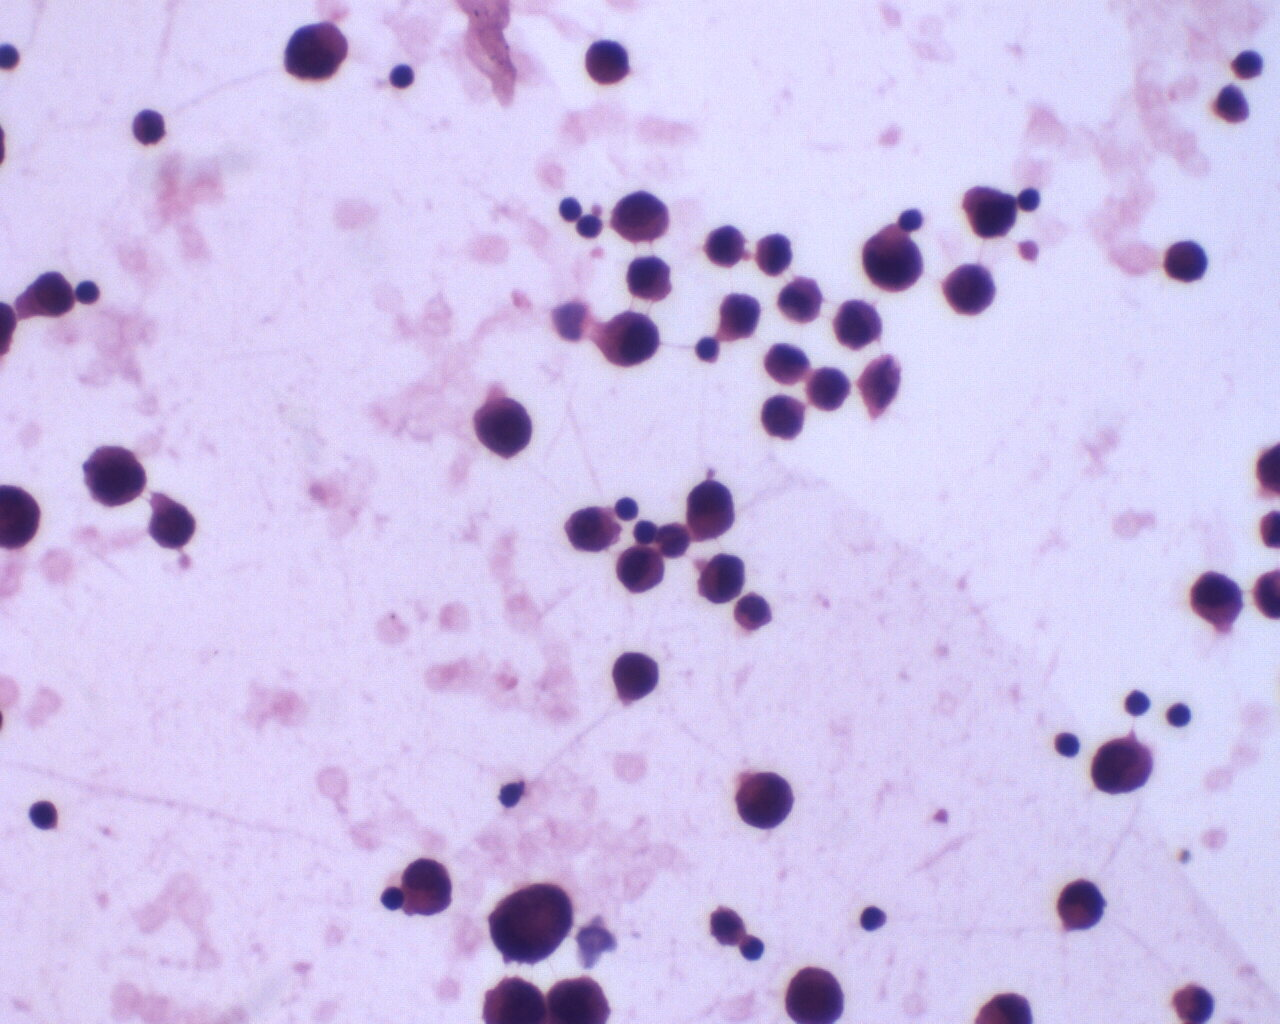ab: (280, 17, 347, 86), (80, 443, 148, 510), (734, 770, 801, 835), (862, 224, 924, 295), (470, 395, 534, 460), (1091, 734, 1156, 796), (781, 962, 845, 1024), (960, 178, 1020, 245), (602, 309, 660, 370), (940, 260, 999, 320), (611, 190, 673, 247), (1188, 571, 1246, 627), (145, 494, 201, 553), (610, 645, 664, 703), (614, 543, 669, 600), (834, 297, 885, 353), (583, 33, 634, 87), (698, 552, 748, 605), (1161, 237, 1211, 289), (805, 363, 853, 416), (624, 253, 674, 302), (753, 228, 797, 282), (759, 393, 807, 440), (703, 222, 749, 270)
lymph: (25, 798, 64, 834), (855, 905, 892, 934), (386, 61, 420, 91), (74, 279, 104, 313), (1123, 686, 1154, 720), (1051, 728, 1083, 760), (694, 333, 723, 365), (1166, 698, 1194, 730), (556, 195, 585, 224), (614, 494, 642, 523), (1016, 184, 1041, 215)
